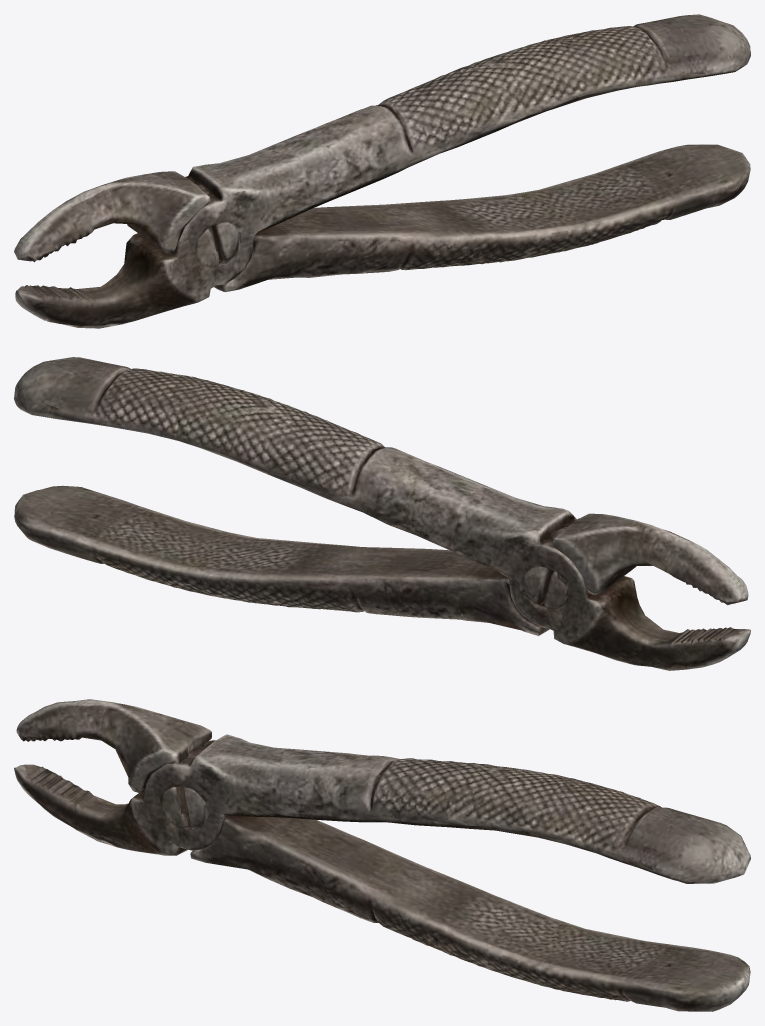
File: pliers.glb
3 renders of one model, top to bottom at view 1: azimuth 30°, elevation 25°; view 2: azimuth 150°, elevation 25°; view 3: azimuth 330°, elevation 25°, orthographic.
Size of the model in its own units: 0.9783 by 0.2577 by 0.1241.
1 material, 1 textured.
